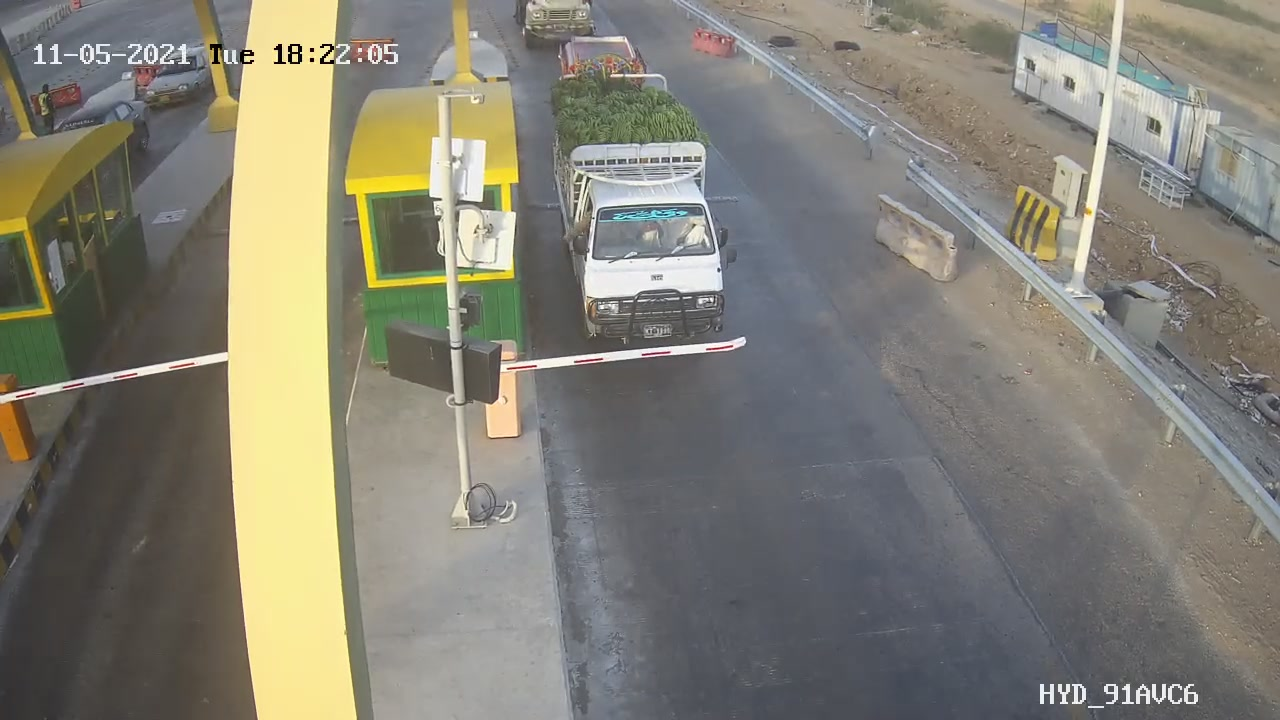F2: (549, 67, 738, 365)
